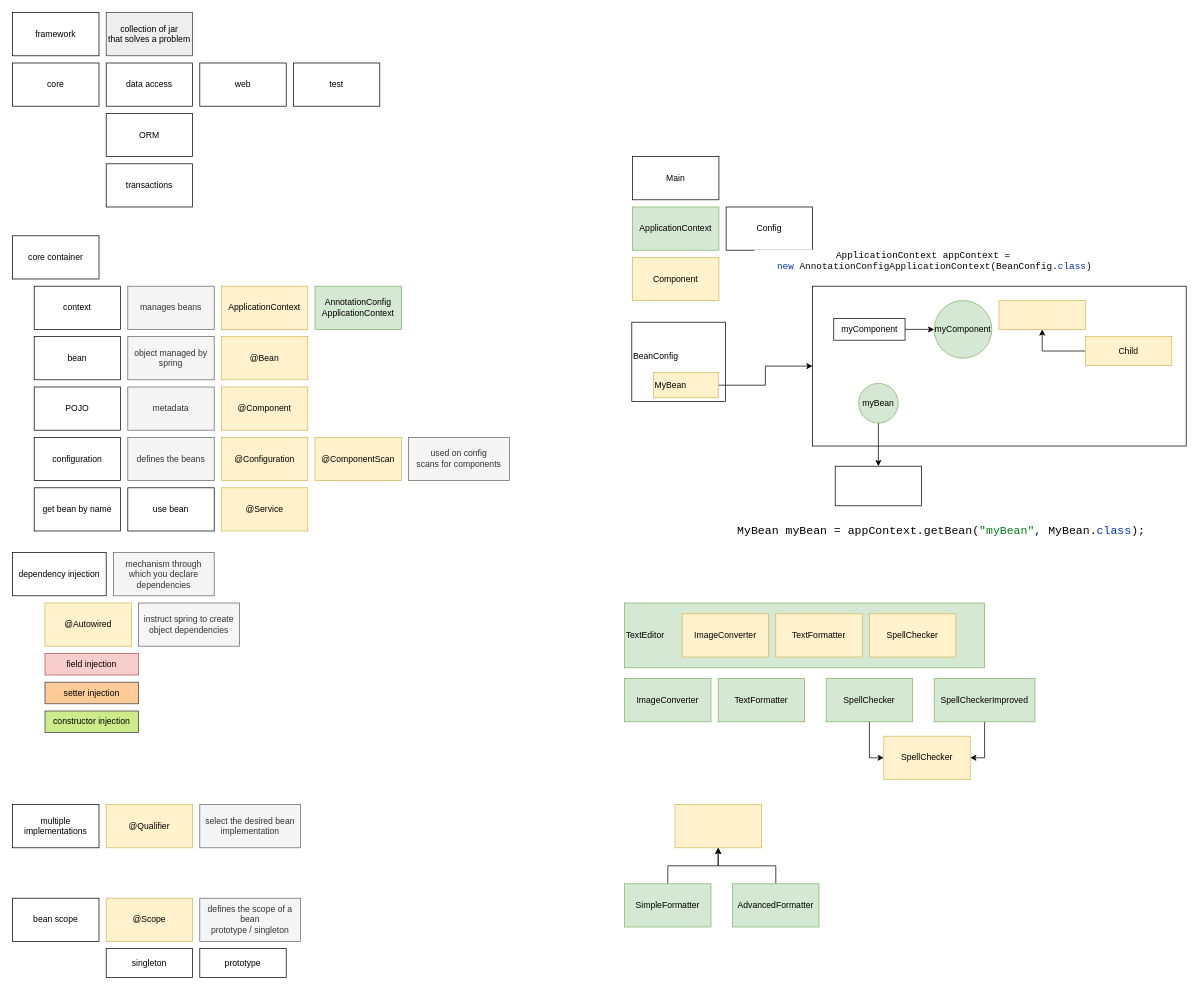
The diagram is 1199 pixels wide and 990 high, and some of its shapes have lost their labels. The shapes that lost their labels are listed below. From the top down, each one's centre as x and y in pixels, then its label:
[1041,314]: Parent
[878,485]: myBean complexOperation()
[717,826]: Formatter
